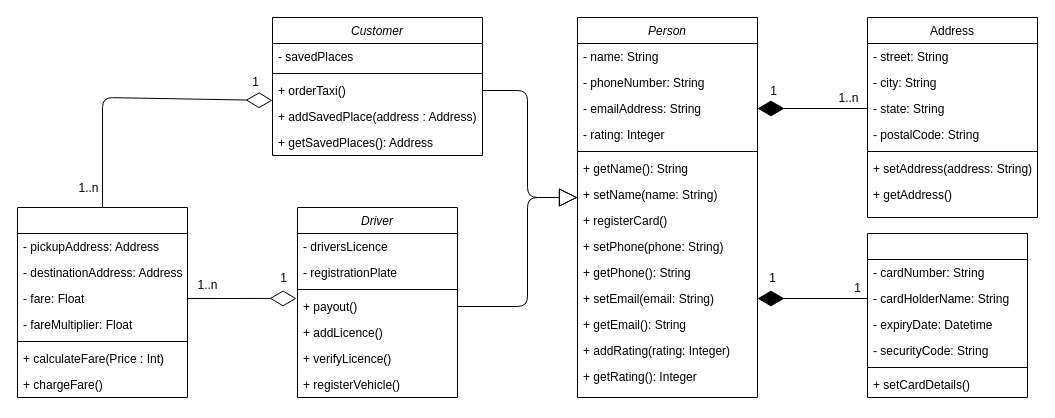
The diagram is 1055 pixels wide and 418 high, and some of its shapes have lost their labels. The shapes that lost their labels are listed below. From the top down, each one's box as (x1, y1, x2, y2) in pixels, then its label:
(16, 206, 188, 398): Trip
(866, 232, 1028, 398): PaymentInfo
